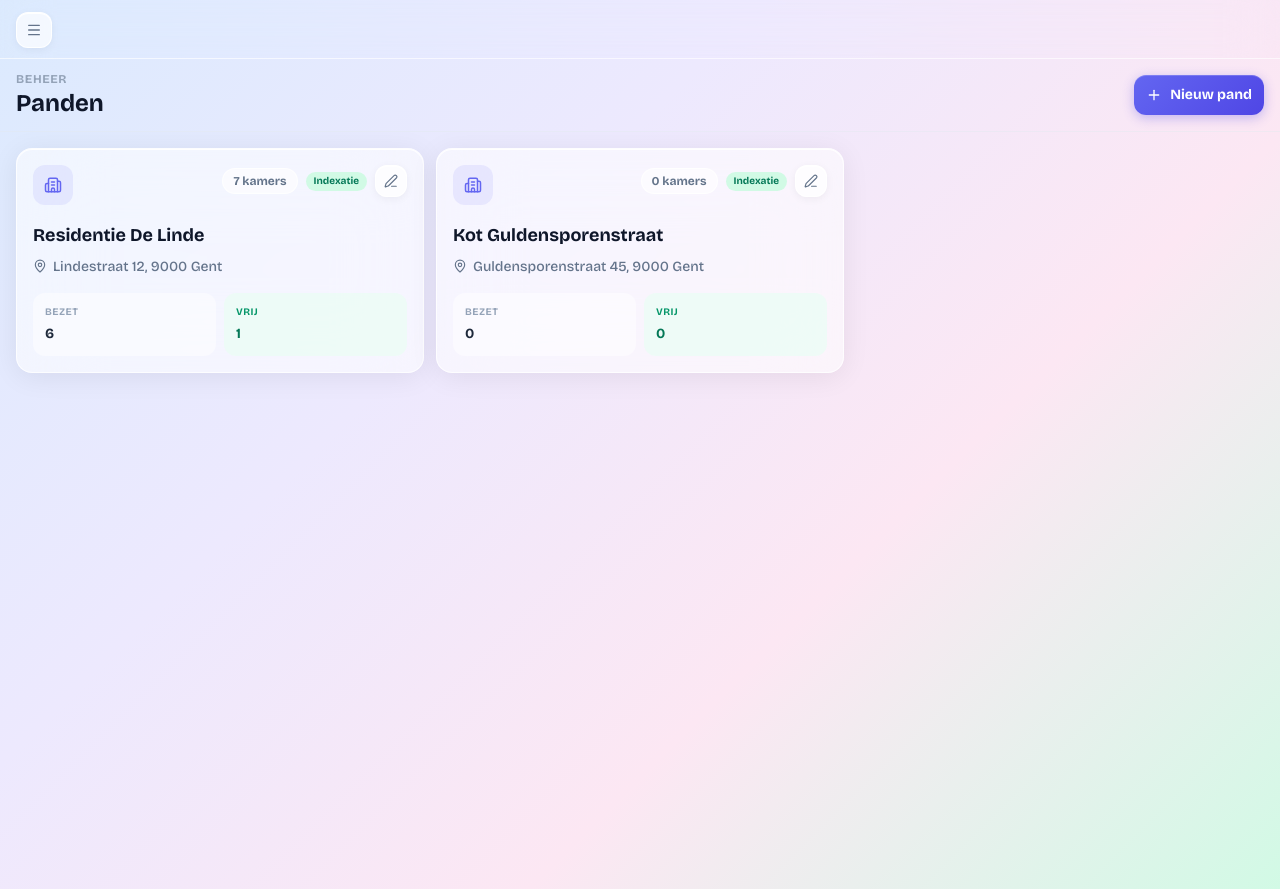
PropertiesPage › verwijdert een vrije kamer
The width and height of the screenshot is (1280, 889).
Step 1. Click the button with aria-label "Open Residentie De Linde" → (119, 235), box [33,221,407,356]
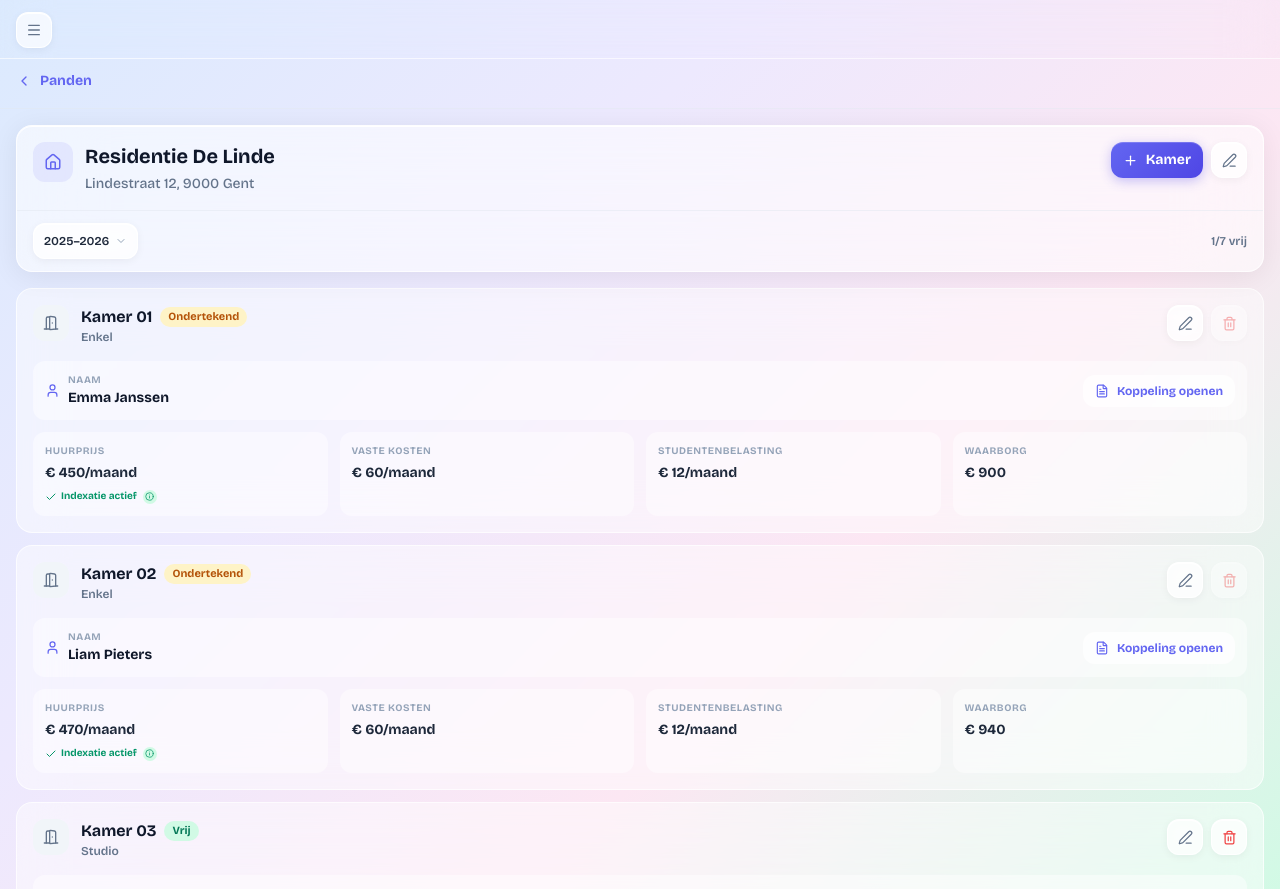
Step 2. Click the button named "Kamer 03 verwijderen" → (1229, 837), box [1211,819,1247,855]
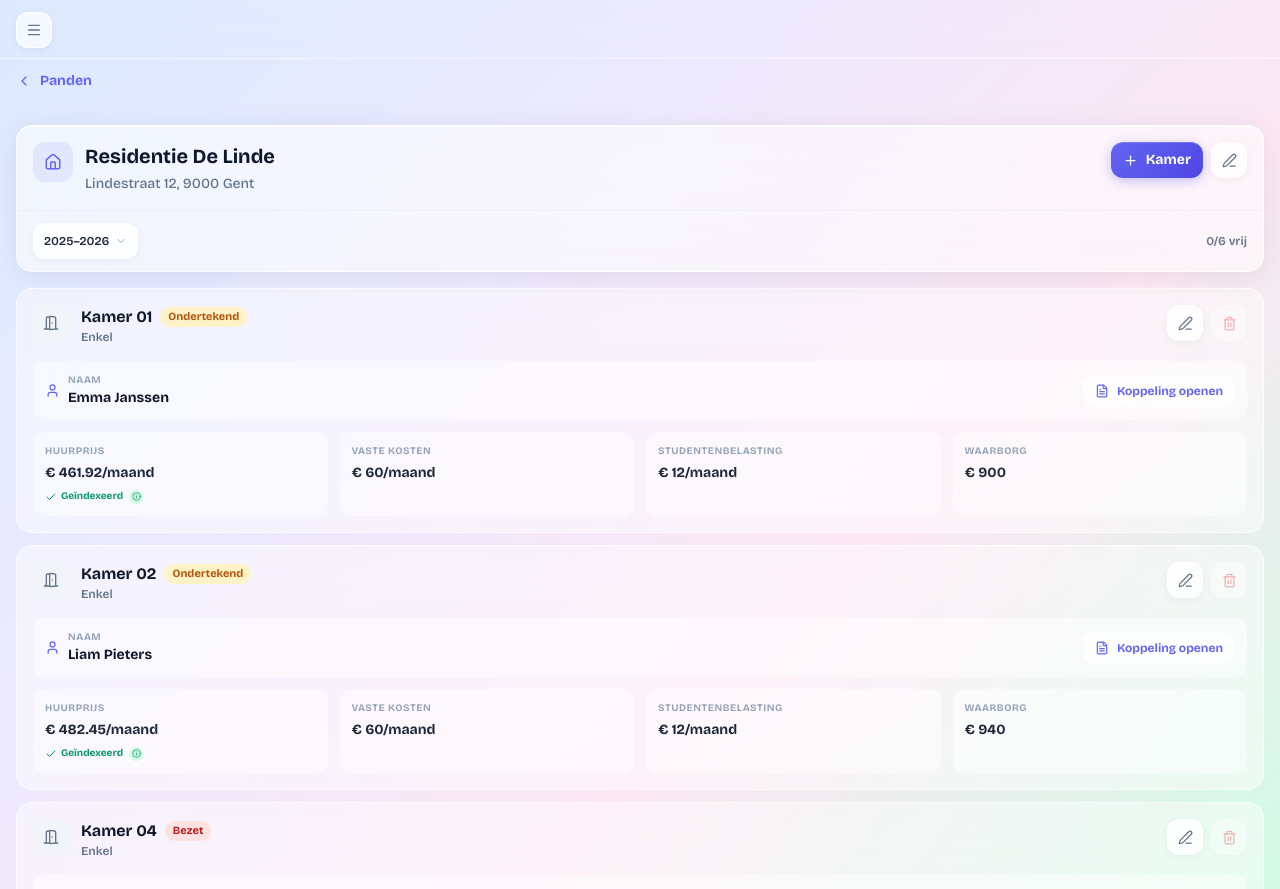
Now the heading "Kamer 03" is gone
